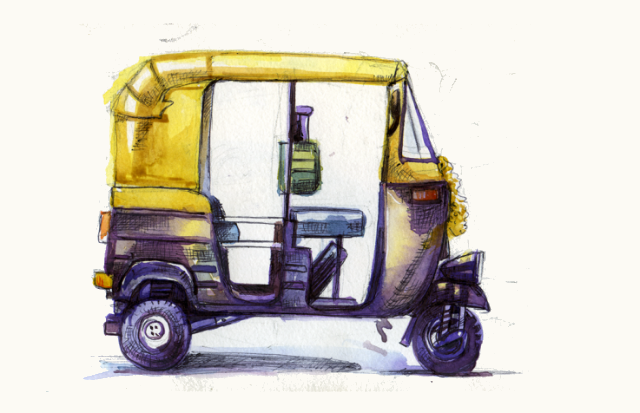auto: (98, 50, 495, 380)
